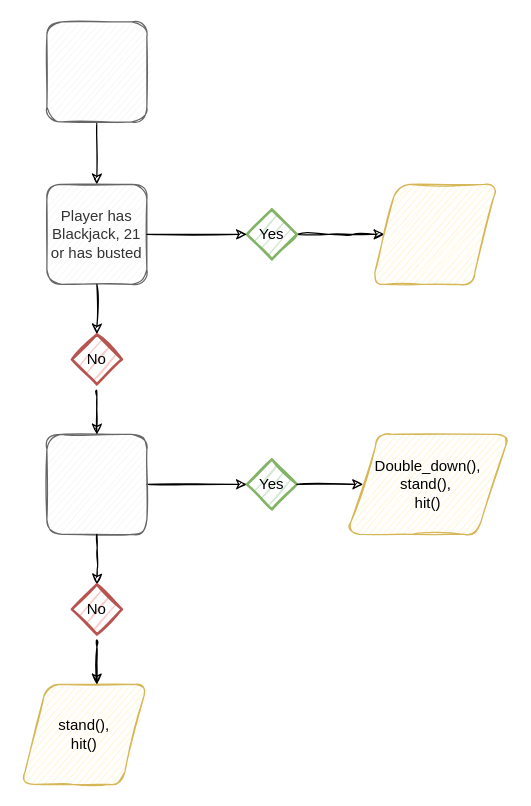
This 531x806 diagram has some shape labels left out. The shapes that lost their labels are listed below. From the top down, each one's centre as x and y in pixels, then its label:
the point at 96,71: Player hits
the point at 434,233: No options
the point at 96,483: Player has two cards
